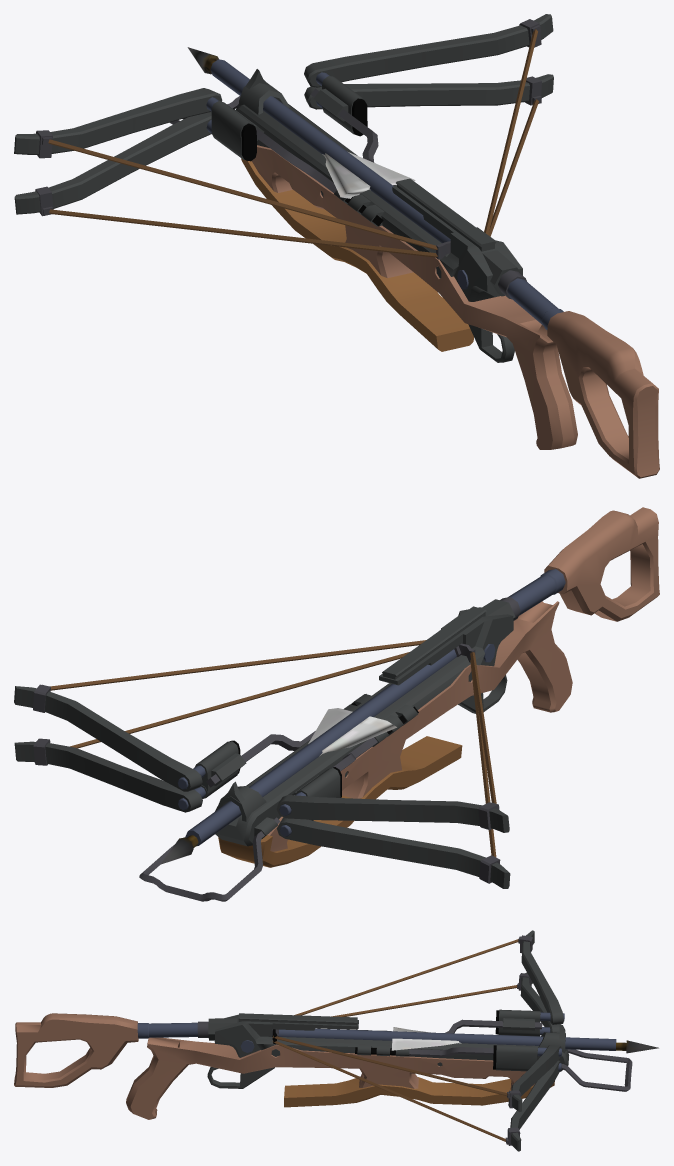
The model's file is crossbow.obj.
3 renders of one model, top to bottom at view 1: azimuth 30°, elevation 25°; view 2: azimuth 150°, elevation 25°; view 3: azimuth 270°, elevation 25°, orthographic. The views are drawn at different scales.
Parts seen in each view (by area): view 1: Handle1, Boltdisplay1; view 2: Handle1, Boltdisplay1; view 3: Handle1, Boltdisplay1.
Part boxes in pixels (left/top/right/bottom): Handle1: left=14, top=14, right=659, bottom=478; Boltdisplay1: left=187, top=47, right=415, bottom=198; Handle1: left=14, top=507, right=659, bottom=901; Boltdisplay1: left=160, top=708, right=396, bottom=864; Handle1: left=14, top=930, right=632, bottom=1151; Boltdisplay1: left=391, top=1027, right=658, bottom=1053.
Bounding box in the file's own units: 3.2 × 0.9356 × 5.11.
Materials: 2 (2 with a texture image).
